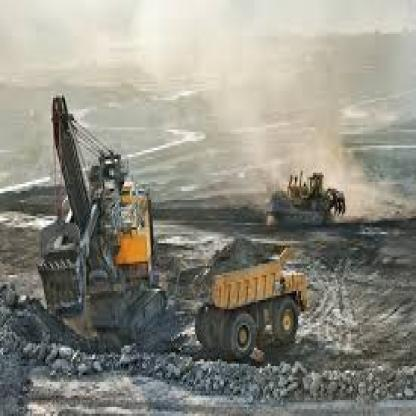dump_truck: (163, 228, 321, 368)
